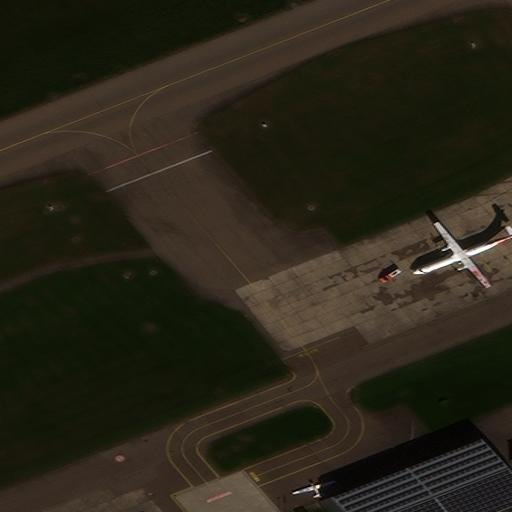Medium Civil Transport: (412, 224, 512, 288)
Small Civil Transport: (290, 479, 334, 498)
